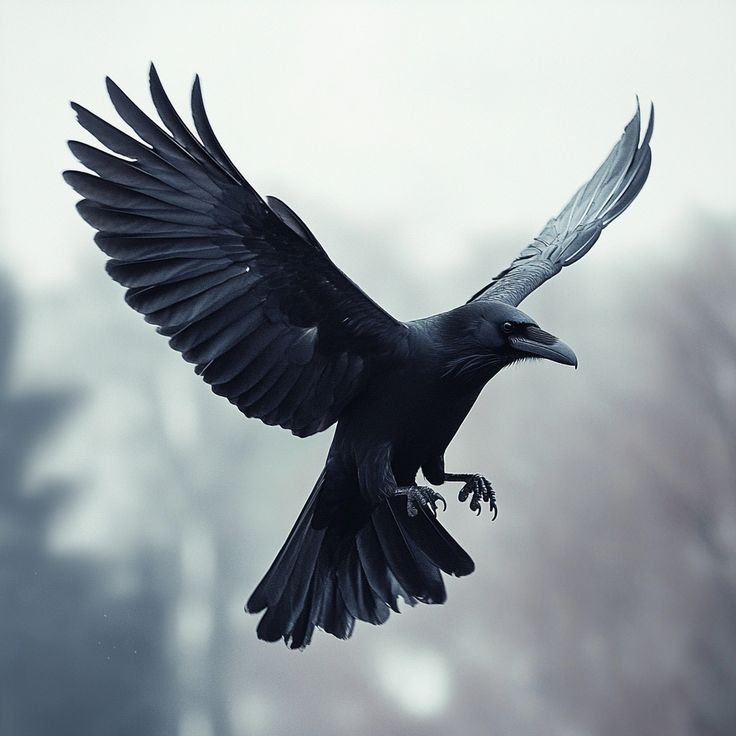ворон: (51, 44, 672, 657)
